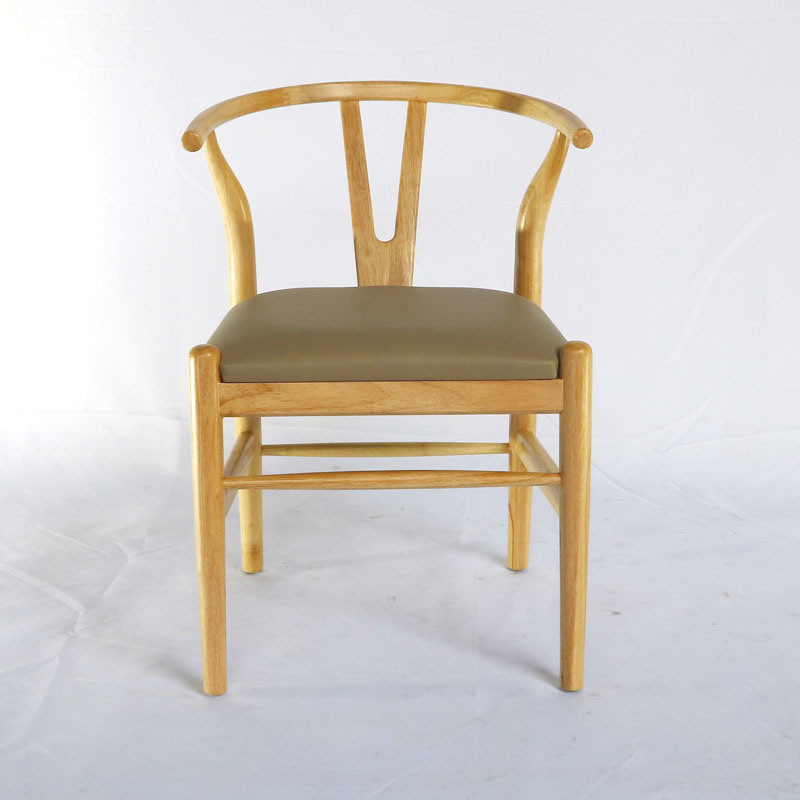seat: (171, 77, 606, 721)
